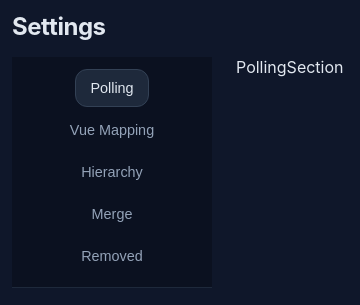
Test: SettingsPage tab navigation › clicking Merge tab renders only the merge section
Click the tab "Merge" at (112, 214), box [77, 195, 147, 233]
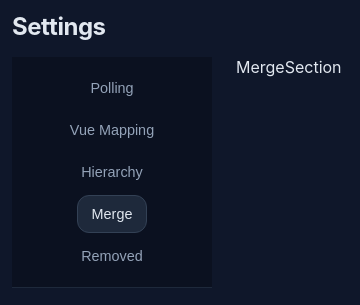
Result: the text "MergeSection" is shown at [236, 57, 342, 77]
Result: the text with test id "section-polling" is gone
